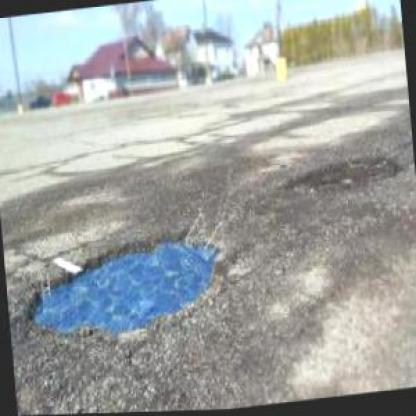pothole: (21, 225, 227, 341), (282, 150, 404, 198)
